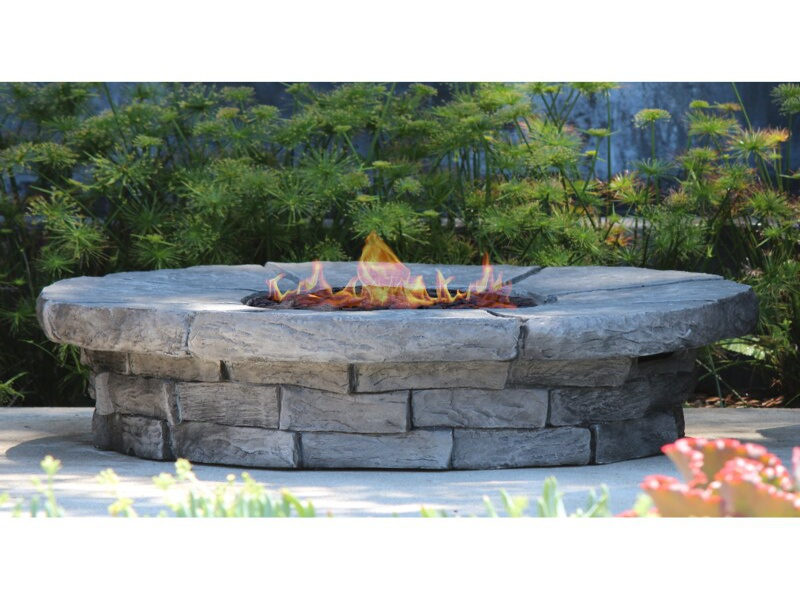fire: (262, 242, 521, 317)
